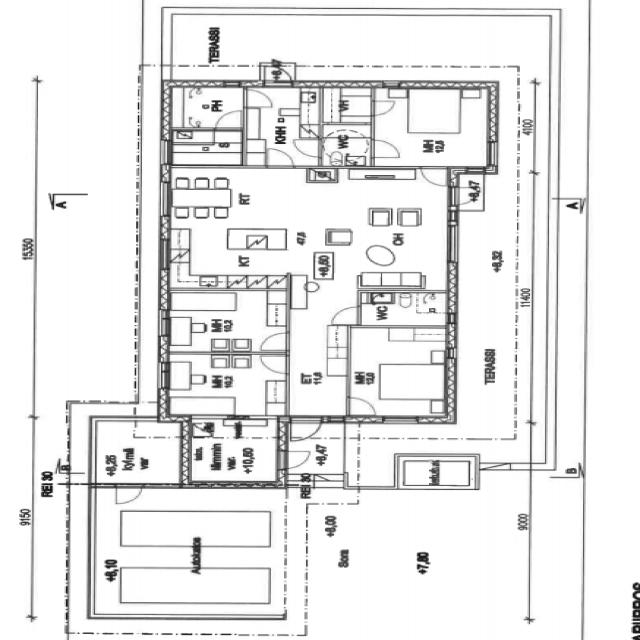door: (448, 180, 485, 212), (475, 457, 531, 478), (286, 414, 324, 444), (340, 394, 380, 420), (108, 482, 148, 508), (277, 445, 315, 472), (256, 330, 294, 356), (211, 107, 248, 131), (368, 137, 404, 161), (416, 164, 452, 188), (263, 146, 298, 170), (242, 86, 276, 110), (328, 304, 365, 326), (256, 354, 293, 376), (291, 137, 324, 159), (368, 97, 400, 118)
window: (443, 206, 464, 268), (374, 412, 431, 430), (440, 322, 464, 362), (152, 180, 174, 222), (479, 137, 506, 171), (153, 303, 176, 342), (152, 354, 174, 394), (155, 136, 177, 168)
zone: (289, 484, 539, 639), (163, 167, 458, 284), (371, 83, 496, 169), (346, 325, 452, 422), (180, 414, 287, 490), (162, 288, 286, 353), (162, 356, 290, 418), (90, 418, 187, 488), (246, 83, 320, 163), (168, 83, 246, 130), (360, 291, 452, 327), (167, 128, 246, 168), (318, 85, 374, 128), (318, 126, 372, 168)
